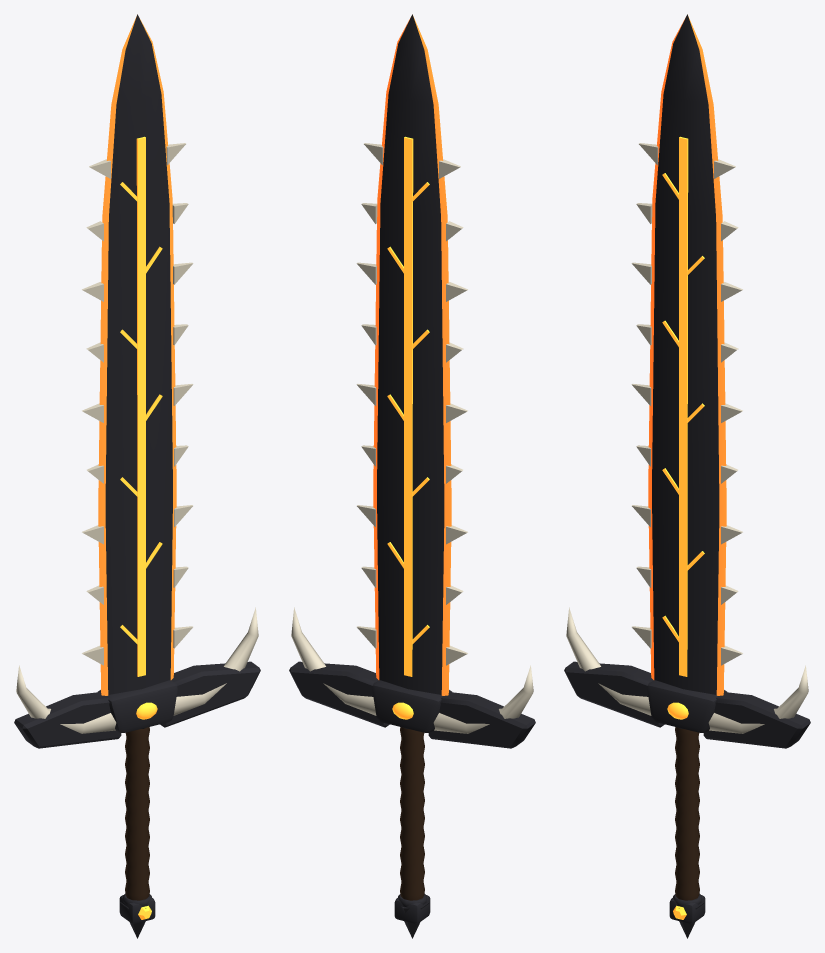
File: dragonfang_greatsword.glb
3 views of the same model, side by side, from view 1: azimuth 30°, elevation 25°; view 2: azimuth 150°, elevation 25°; view 3: azimuth 330°, elevation 25° (orthographic).
Parts seen in each view (by area): view 1: dragonfang_greatsword; view 2: dragonfang_greatsword; view 3: dragonfang_greatsword.
Part boxes in pixels (x1,y1,x2,y2): dragonfang_greatsword: (14,14,260,938); dragonfang_greatsword: (289,14,535,938); dragonfang_greatsword: (564,14,810,938).
Size of the model in its own units: 0.4788 by 1.75 by 0.082.
